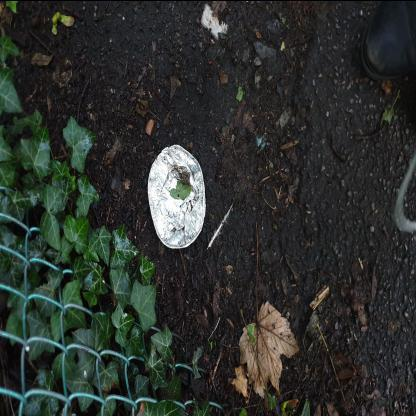metal: (149, 144, 207, 250)
